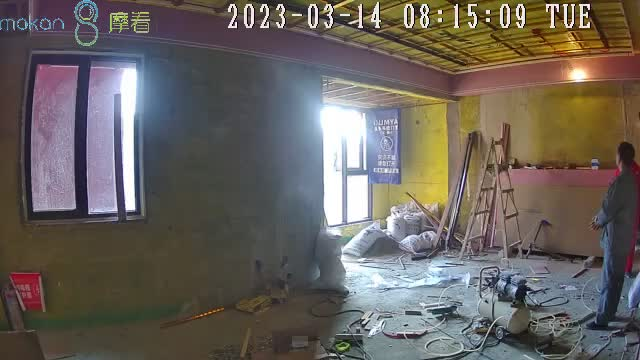people: (586, 141, 640, 330)
window: (33, 60, 140, 217), (323, 105, 402, 226)
